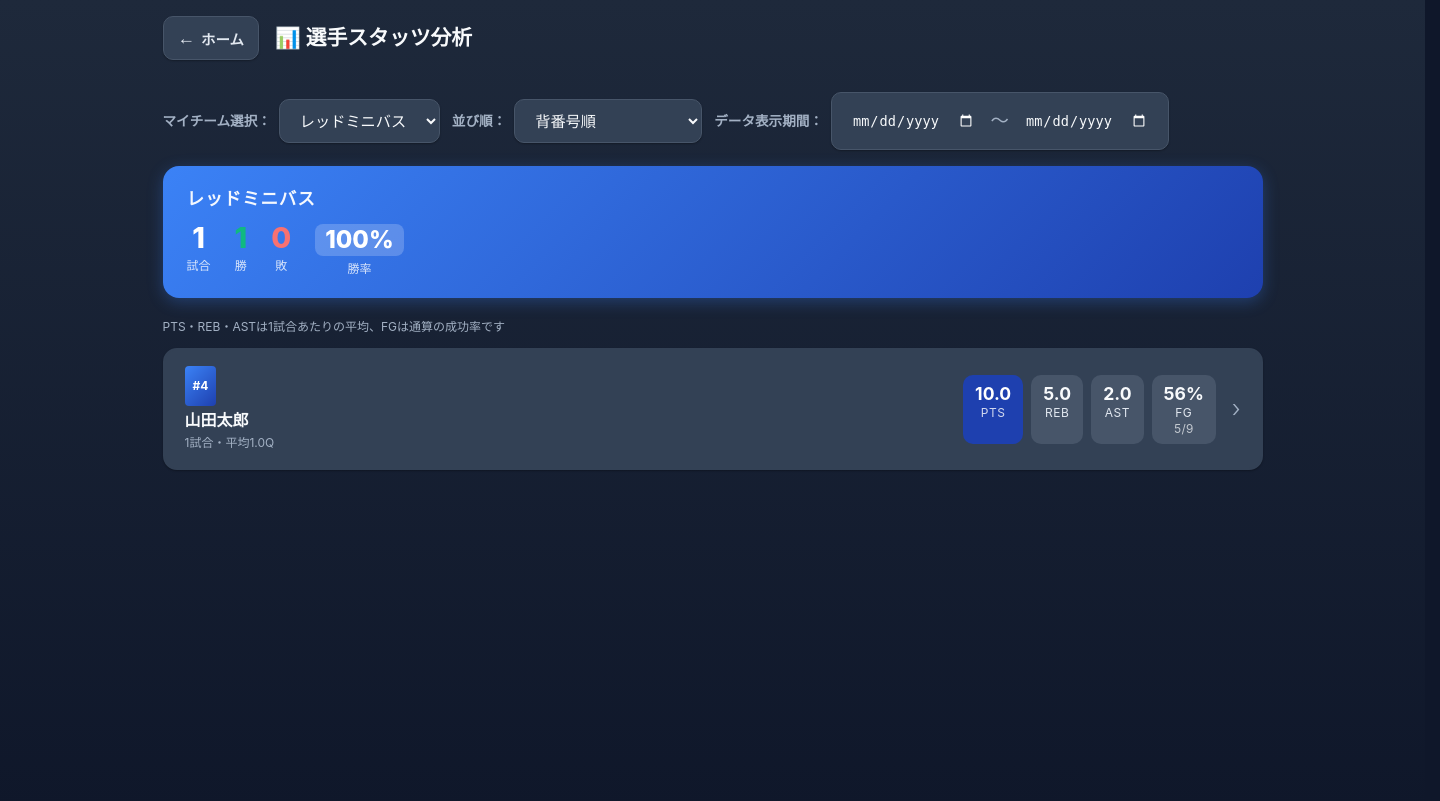
Test case: 選手スタッツ詳細での戻る操作 › 詳細を開いているあいだは戻る操作を受け取る
What coordinates should you click on to do the following:
click the button "#4"
I would click on:
 (200, 386)
Its box is [162, 348, 1262, 470].
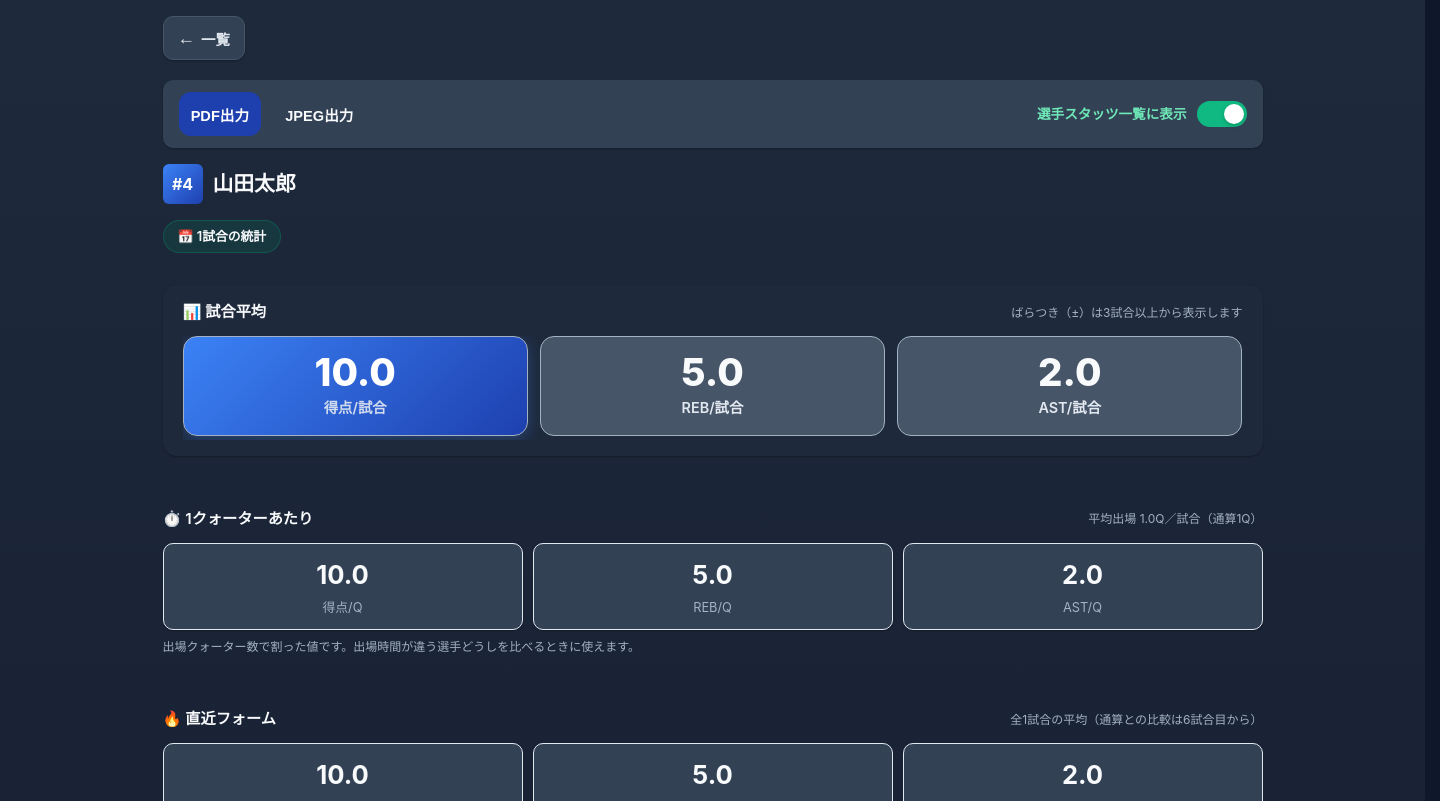
Now the text "📊 試合平均" is shown, box [182, 301, 266, 324]
